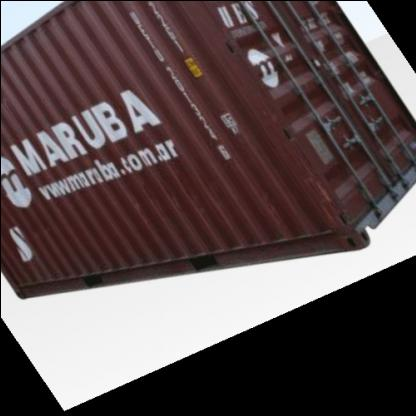Damage: (112, 154, 200, 222), (301, 152, 344, 230)
